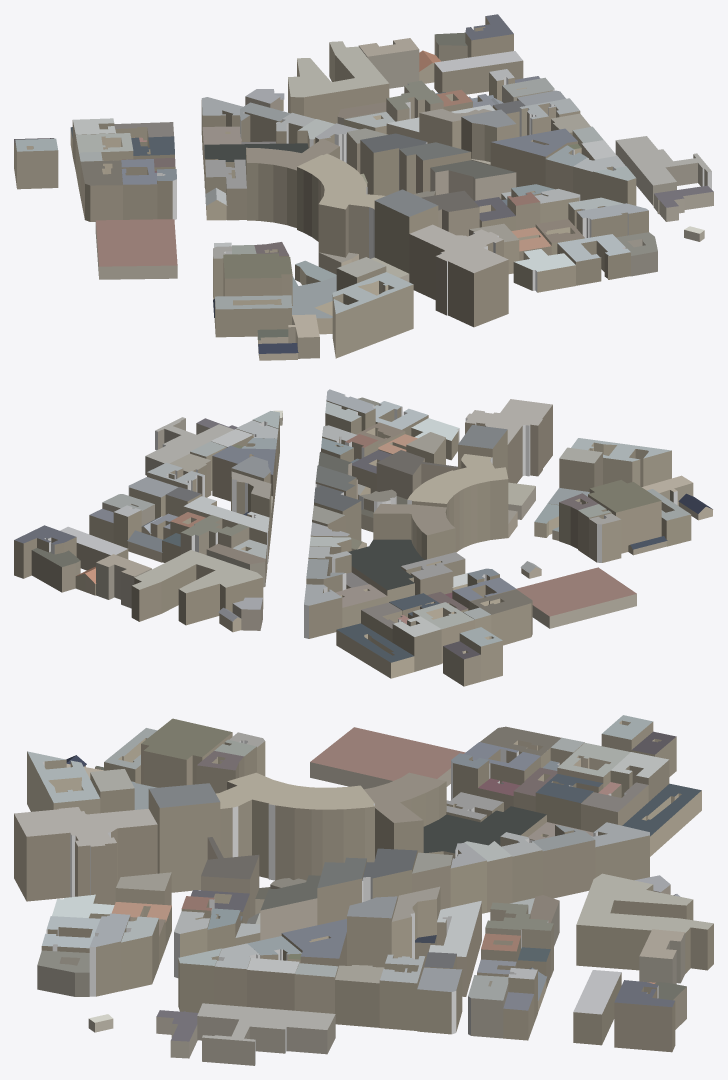
3 views of the same model, one above another, from view 1: azimuth 30°, elevation 25°; view 2: azimuth 150°, elevation 25°; view 3: azimuth 270°, elevation 25° (orthographic). The views are drawn at different scales.
Parts seen in each view (by area): view 1: tuile; view 2: tuile; view 3: tuile.
Part boxes in pixels (x1,y1,x2,y2): tuile: (14, 14, 713, 360); tuile: (14, 389, 712, 686); tuile: (14, 715, 713, 1065).
Bounding box in the file's own units: 293 × 37.21 × 268.
